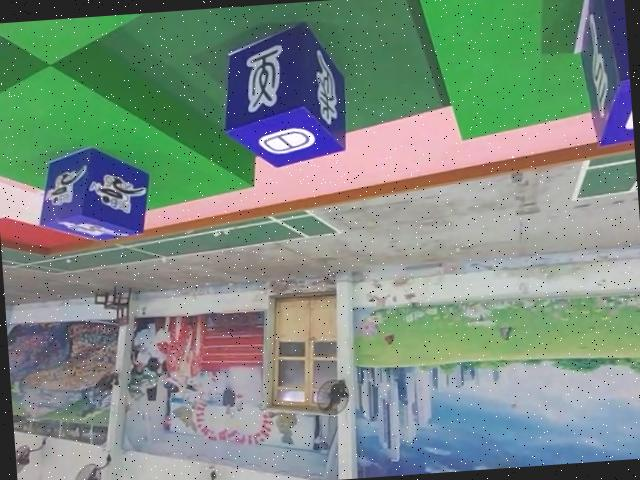R1 Blue: (30, 140, 151, 242)
R2 Fake Blue: (216, 18, 349, 170), (574, 0, 633, 143)
